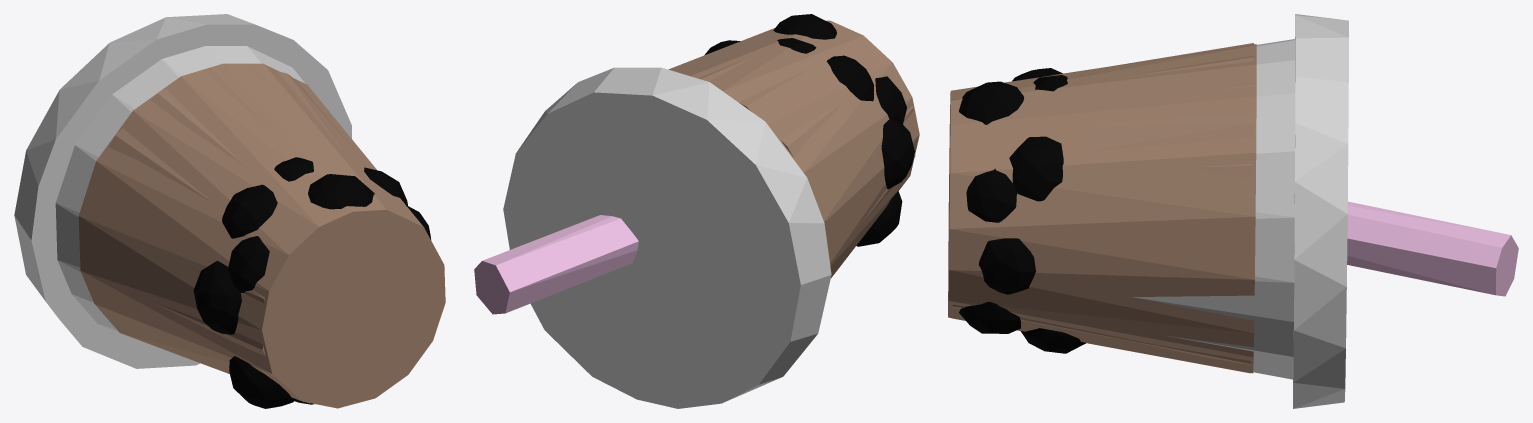
Rendered from food_3_boba.fbx.
3 renders of one model, left to right at view 1: azimuth 30°, elevation 25°; view 2: azimuth 150°, elevation 25°; view 3: azimuth 270°, elevation 25°, orthographic. The views are drawn at different scales.
Visible parts, largest first — view 1: food_boba; view 2: food_boba; view 3: food_boba.
Boxes of the visible parts, bbox=[...] form: food_boba: bbox=[14, 14, 445, 408]; food_boba: bbox=[474, 14, 919, 408]; food_boba: bbox=[948, 14, 1518, 408].
Size of the model in its own units: 50.33 by 50.54 by 72.41.
